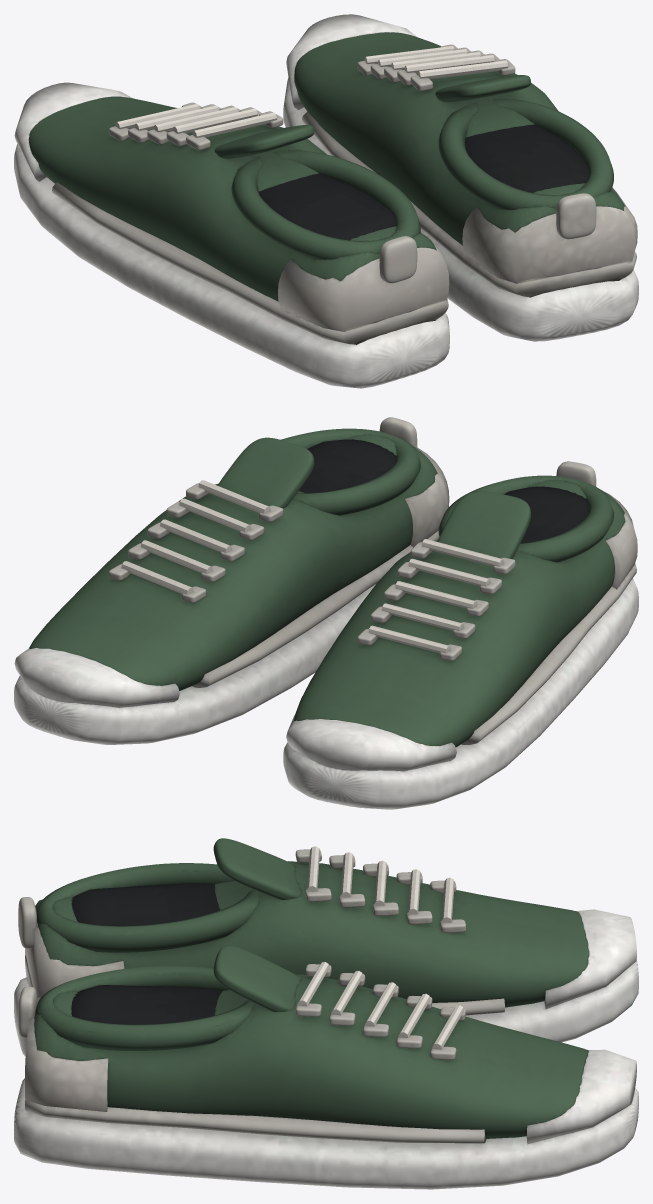
File: canvas-green.glb
The picture shows the model from 3 angles, top to bottom: view 1: azimuth 30°, elevation 25°; view 2: azimuth 150°, elevation 25°; view 3: azimuth 270°, elevation 25°; orthographic projection. The views are drawn at different scales.
Parts seen in each view (by area): view 1: fabric_primary_upper, sole_rubber, accent, lining_dark, laces; view 2: fabric_primary_upper, sole_rubber, accent, laces, lining_dark; view 3: fabric_primary_upper, sole_rubber, accent, lining_dark, laces.
Part boxes in pixels (box(x1,y1,x2,y2)): fabric_primary_upper: box(28, 32, 624, 301); sole_rubber: box(14, 14, 638, 388); accent: box(52, 44, 637, 344); lining_dark: box(258, 124, 590, 240); laces: box(115, 46, 507, 137); fabric_primary_upper: box(29, 428, 625, 747); sole_rubber: box(14, 578, 638, 809); accent: box(109, 417, 637, 744); laces: box(121, 480, 504, 653); lining_dark: box(299, 439, 590, 543); fabric_primary_upper: box(34, 838, 589, 1138); sole_rubber: box(14, 909, 638, 1189); accent: box(18, 849, 504, 1143); lining_dark: box(71, 883, 222, 1024); laces: box(297, 846, 464, 1049).
Bounding box in the file's own units: 0.2458 × 0.0997 × 0.2957.
5 materials, 5 textured.
